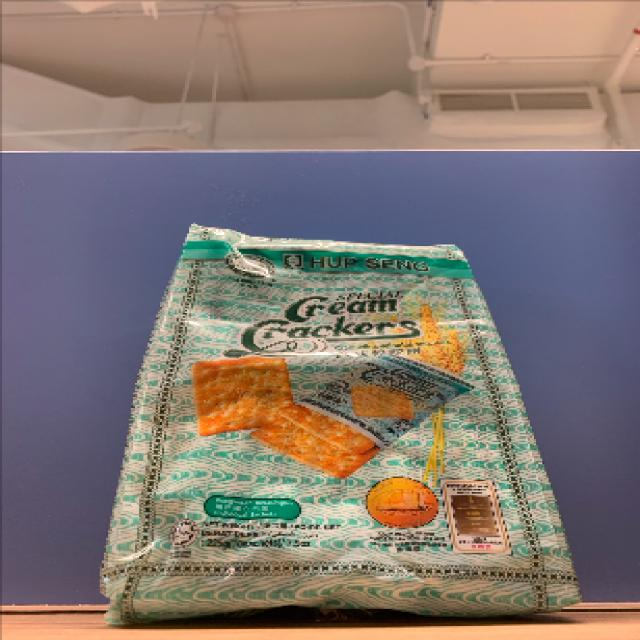object_name: (160, 234, 545, 620)
